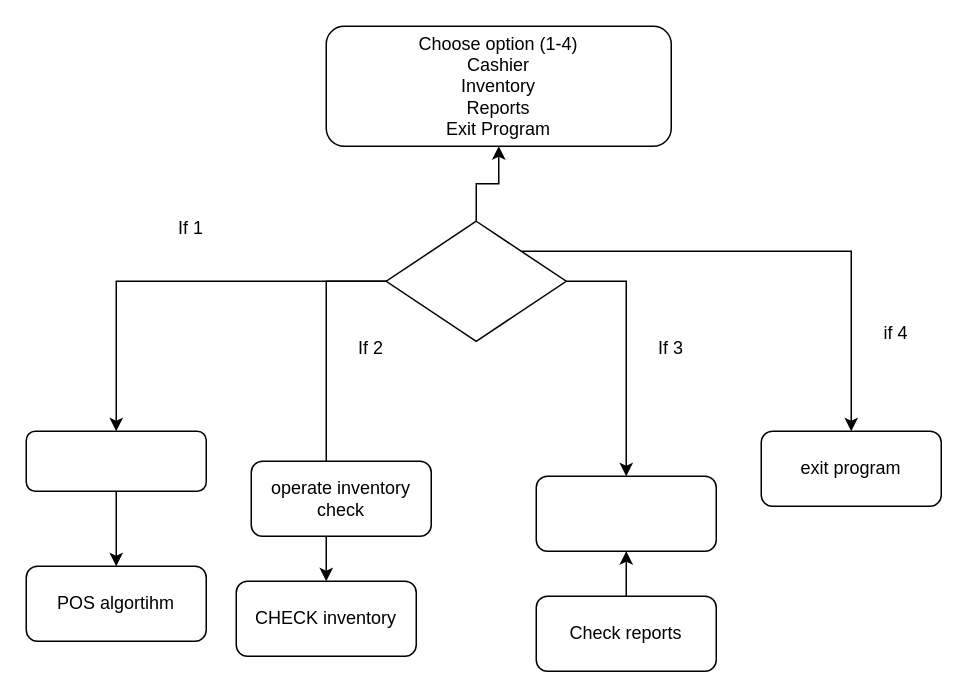
Some shapes in this 968 by 698 pixel diagram are drawn without their labels. Each missing label, with the centre of its shape:
"direct user to userchoiice" goes at pixel 475 280.
"operate cashier function" goes at pixel 115 460.
"operate reports check" goes at pixel 625 513.
